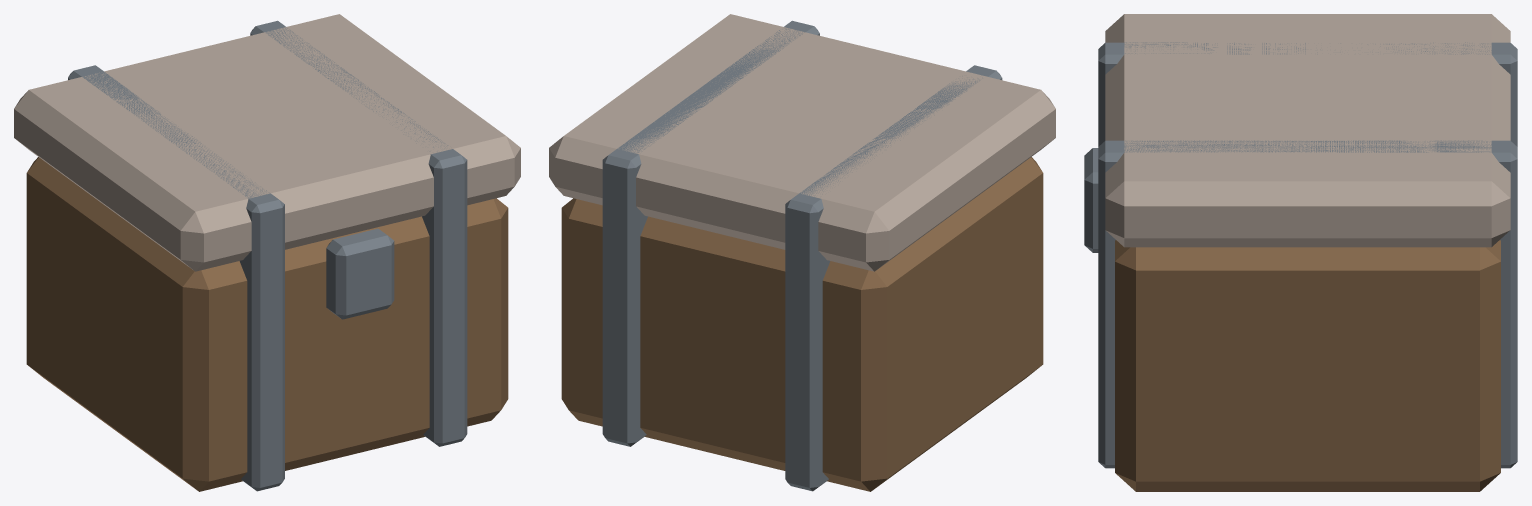
The model's file is wood_container.glb.
The picture shows the model from 3 angles, left to right: view 1: azimuth 30°, elevation 25°; view 2: azimuth 150°, elevation 25°; view 3: azimuth 270°, elevation 25°; orthographic projection. The views are drawn at different scales.
Bounding box in the file's own units: 0.92 × 0.7396 × 0.9196.
